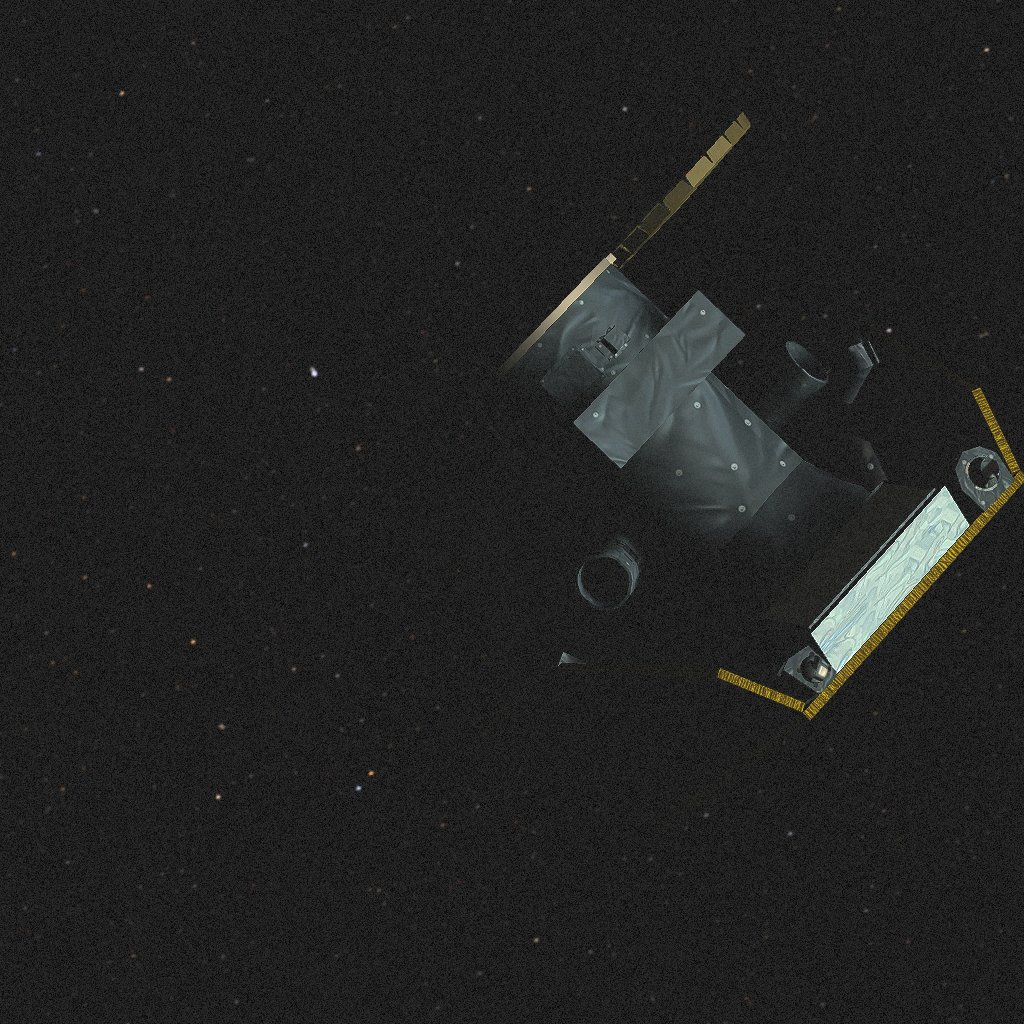cheops: (408, 112, 1024, 833)
